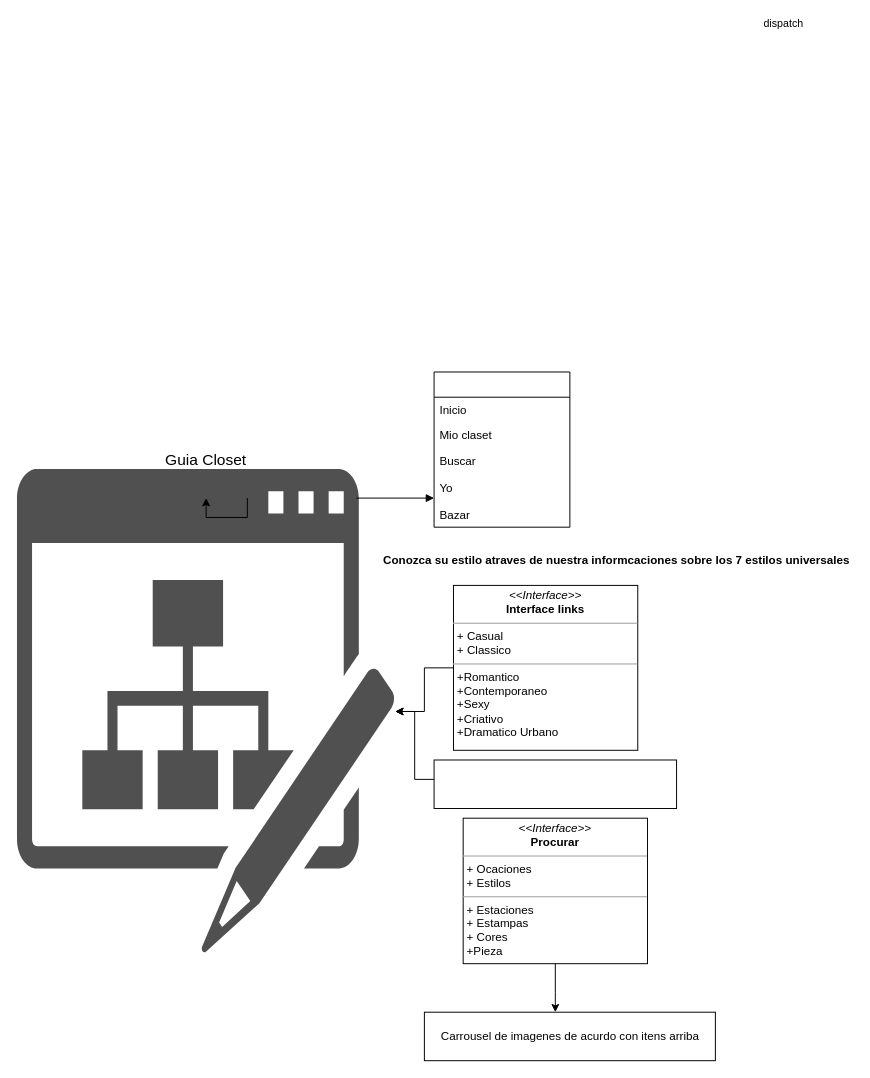
Some shapes in this 870 by 1078 pixel diagram are drawn without their labels. The shapes that lost their labels are listed below. From the top down, each one's box as (x1, y1, x2, y2) in pixels, then its label:
(433, 371, 570, 527): Navbar
(433, 759, 677, 808): Carrousel de imagenes de estilo aelatorio
